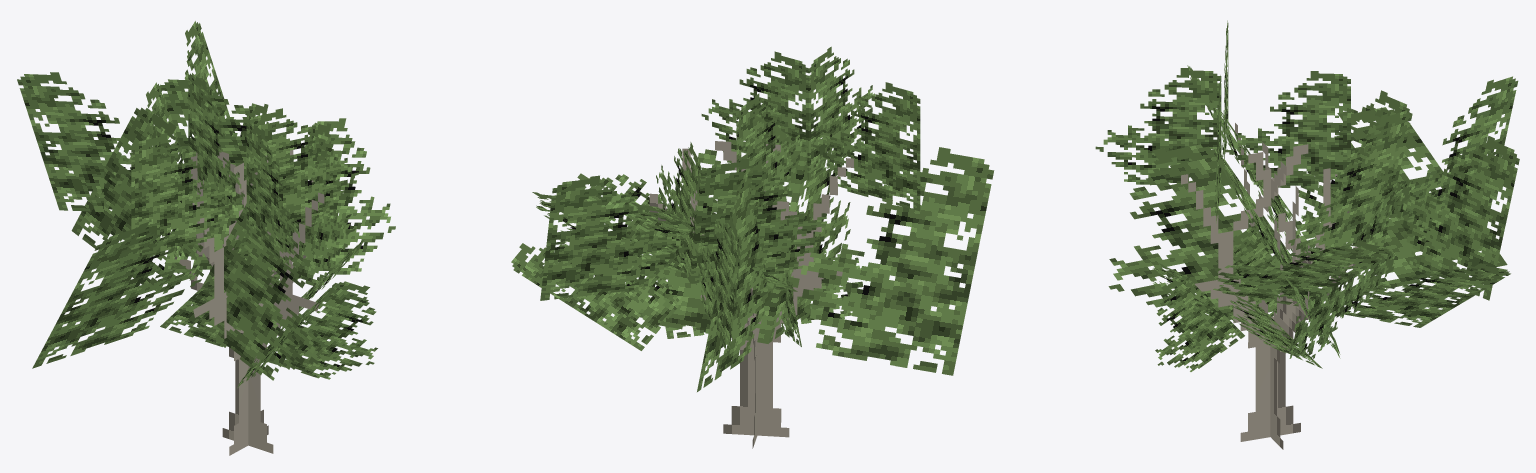
Rendered from uvmd-0100.glb.
3 views of the same model, side by side, from view 1: azimuth 30°, elevation 25°; view 2: azimuth 150°, elevation 25°; view 3: azimuth 270°, elevation 25° (orthographic). The views are drawn at different scales.
Parts seen in each view (by area): view 1: uvmd-0100; view 2: uvmd-0100; view 3: uvmd-0100.
Part boxes in pixels (<box>): uvmd-0100: <box>17,21,395,455</box>; uvmd-0100: <box>511,46,994,448</box>; uvmd-0100: <box>1095,20,1519,449</box>.
Size of the model in its own units: 357 by 278 by 352.
2 materials, 2 textured.
